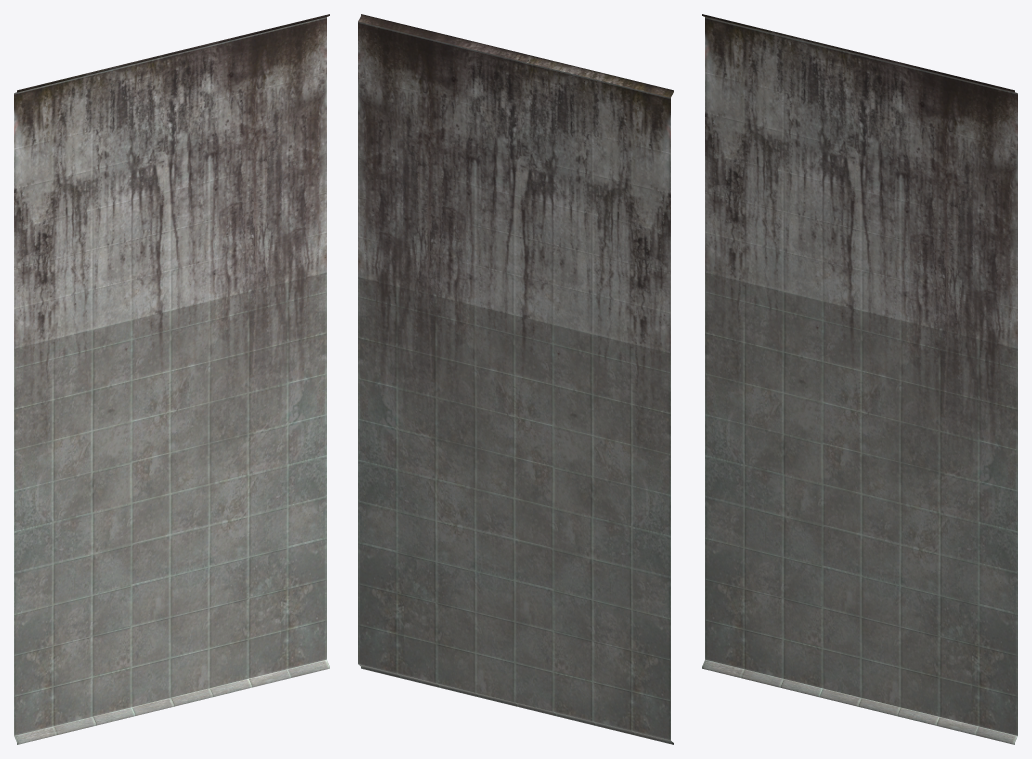
The model's file is bathroom_damaged_flat_short.dae.
3 views of the same model, side by side, from view 1: azimuth 30°, elevation 25°; view 2: azimuth 150°, elevation 25°; view 3: azimuth 330°, elevation 25° (orthographic).
Visible parts, largest first — view 1: polySurface8; view 2: polySurface8; view 3: polySurface8.
Boxes of the visible parts, left/top/right/bottom form: polySurface8: left=14, top=14, right=329, bottom=744; polySurface8: left=358, top=14, right=673, bottom=744; polySurface8: left=702, top=14, right=1017, bottom=744.
Bounding box in the file's own units: 2 × 4 × 0.0341.
